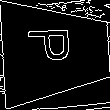P_E: (30, 32, 82, 72)
